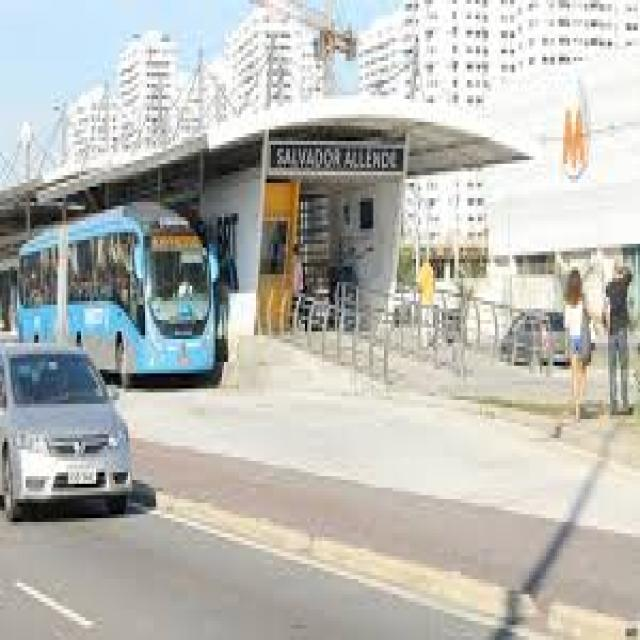AB: (13, 190, 226, 392)
